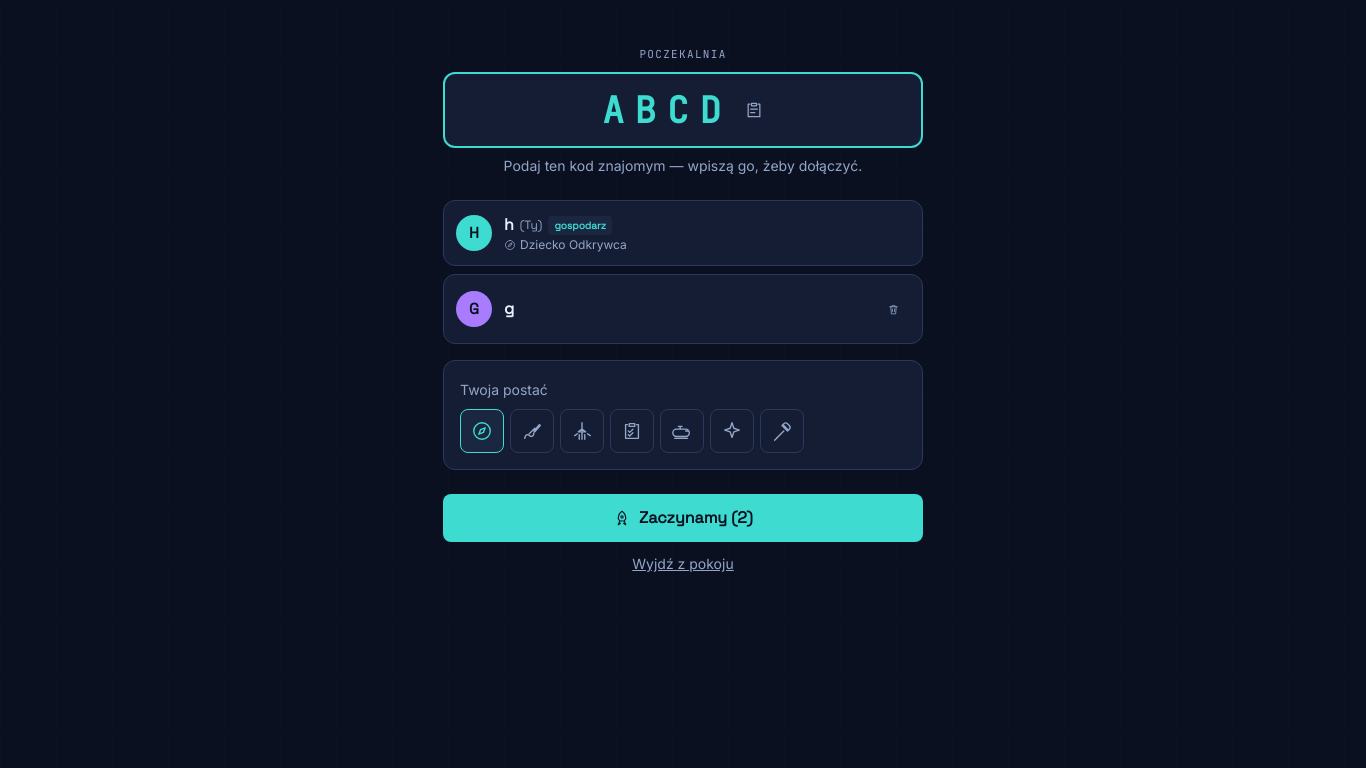
Scenario: RoomLobby — udana zmiana postaci potwierdza się komunikatem › udany zapis pokazuje, JAKĄ postać wybrano
Click the radio button named "Dziecko Artysta". click: x=532, y=431
box: x1=510 y1=409 x2=554 y2=453
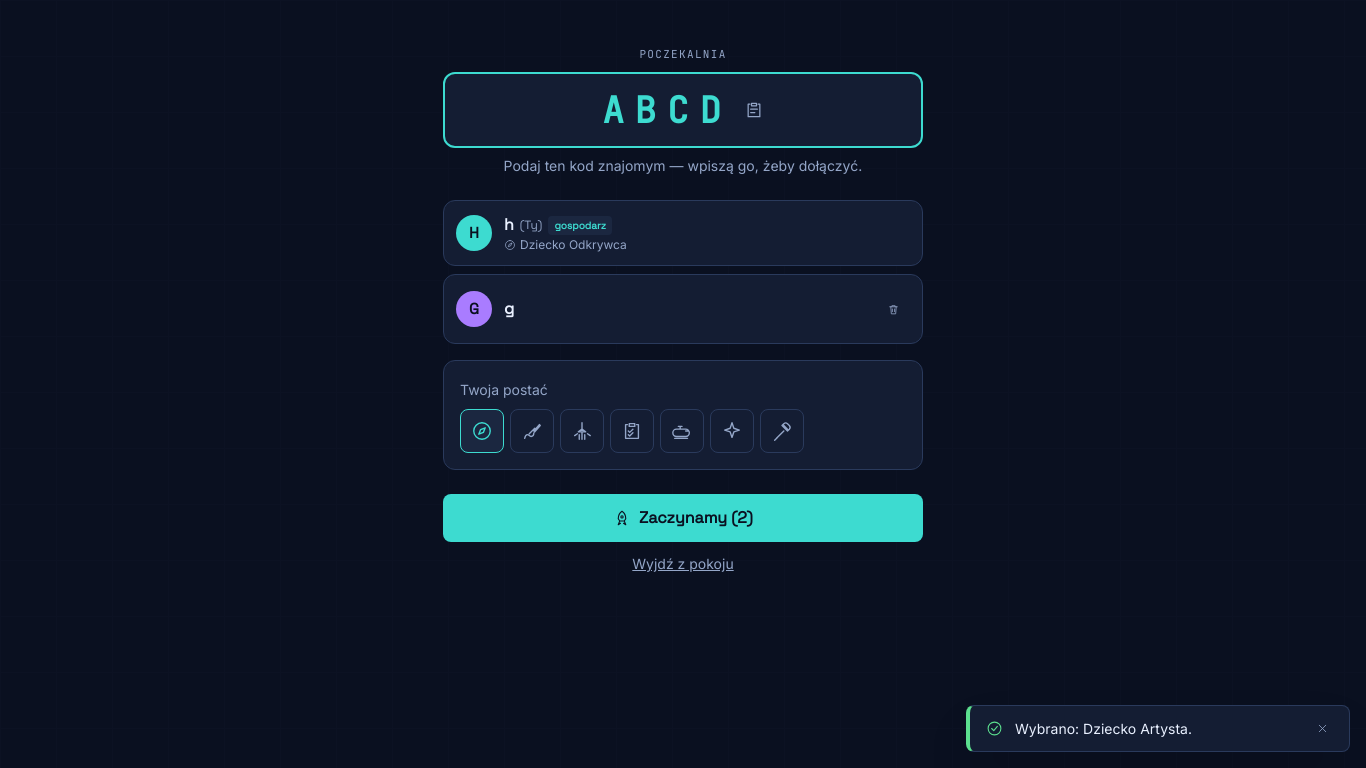
Expected: the text "Wybrano: Dziecko Artysta." is shown, x1=1015 y1=720 x2=1192 y2=736
